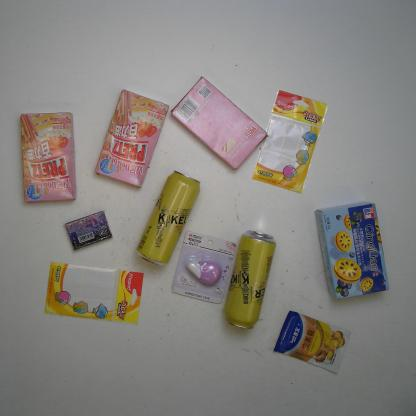Alcohol: (136, 170, 201, 266), (224, 231, 276, 330)
Dessert: (171, 76, 268, 170), (93, 89, 170, 188), (314, 201, 390, 300), (20, 112, 76, 203)
Gum: (64, 210, 112, 251)
Seasoner: (273, 310, 351, 374)
Stationery: (252, 89, 329, 194), (44, 262, 144, 325), (171, 231, 236, 304)
